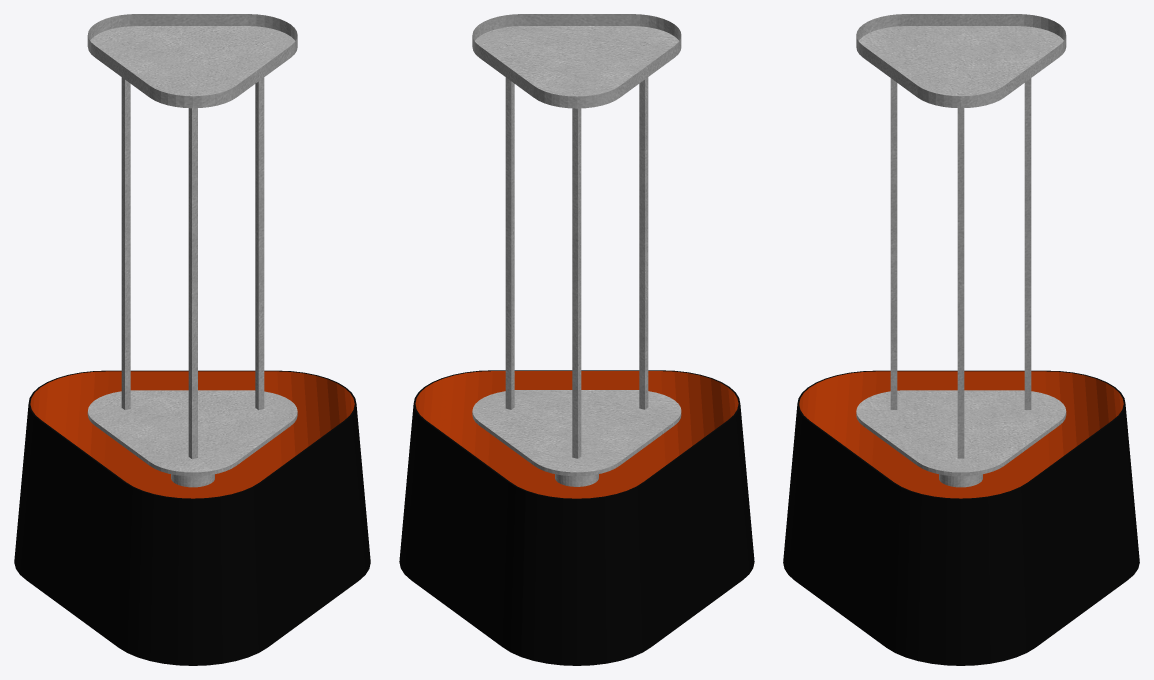
The model's file is Lamp1.fbx.
3 renders of one model, left to right at view 1: azimuth 30°, elevation 25°; view 2: azimuth 150°, elevation 25°; view 3: azimuth 270°, elevation 25°, orthographic.
Visible parts, largest first — view 1: Empty_Mesh; view 2: Empty_Mesh; view 3: Empty_Mesh.
Part boxes in pixels (bbox=[...]): Empty_Mesh: bbox=[14, 14, 370, 665]; Empty_Mesh: bbox=[399, 14, 754, 665]; Empty_Mesh: bbox=[783, 14, 1139, 665].
Bounding box in the file's own units: 74.38 × 133 × 80.2.
